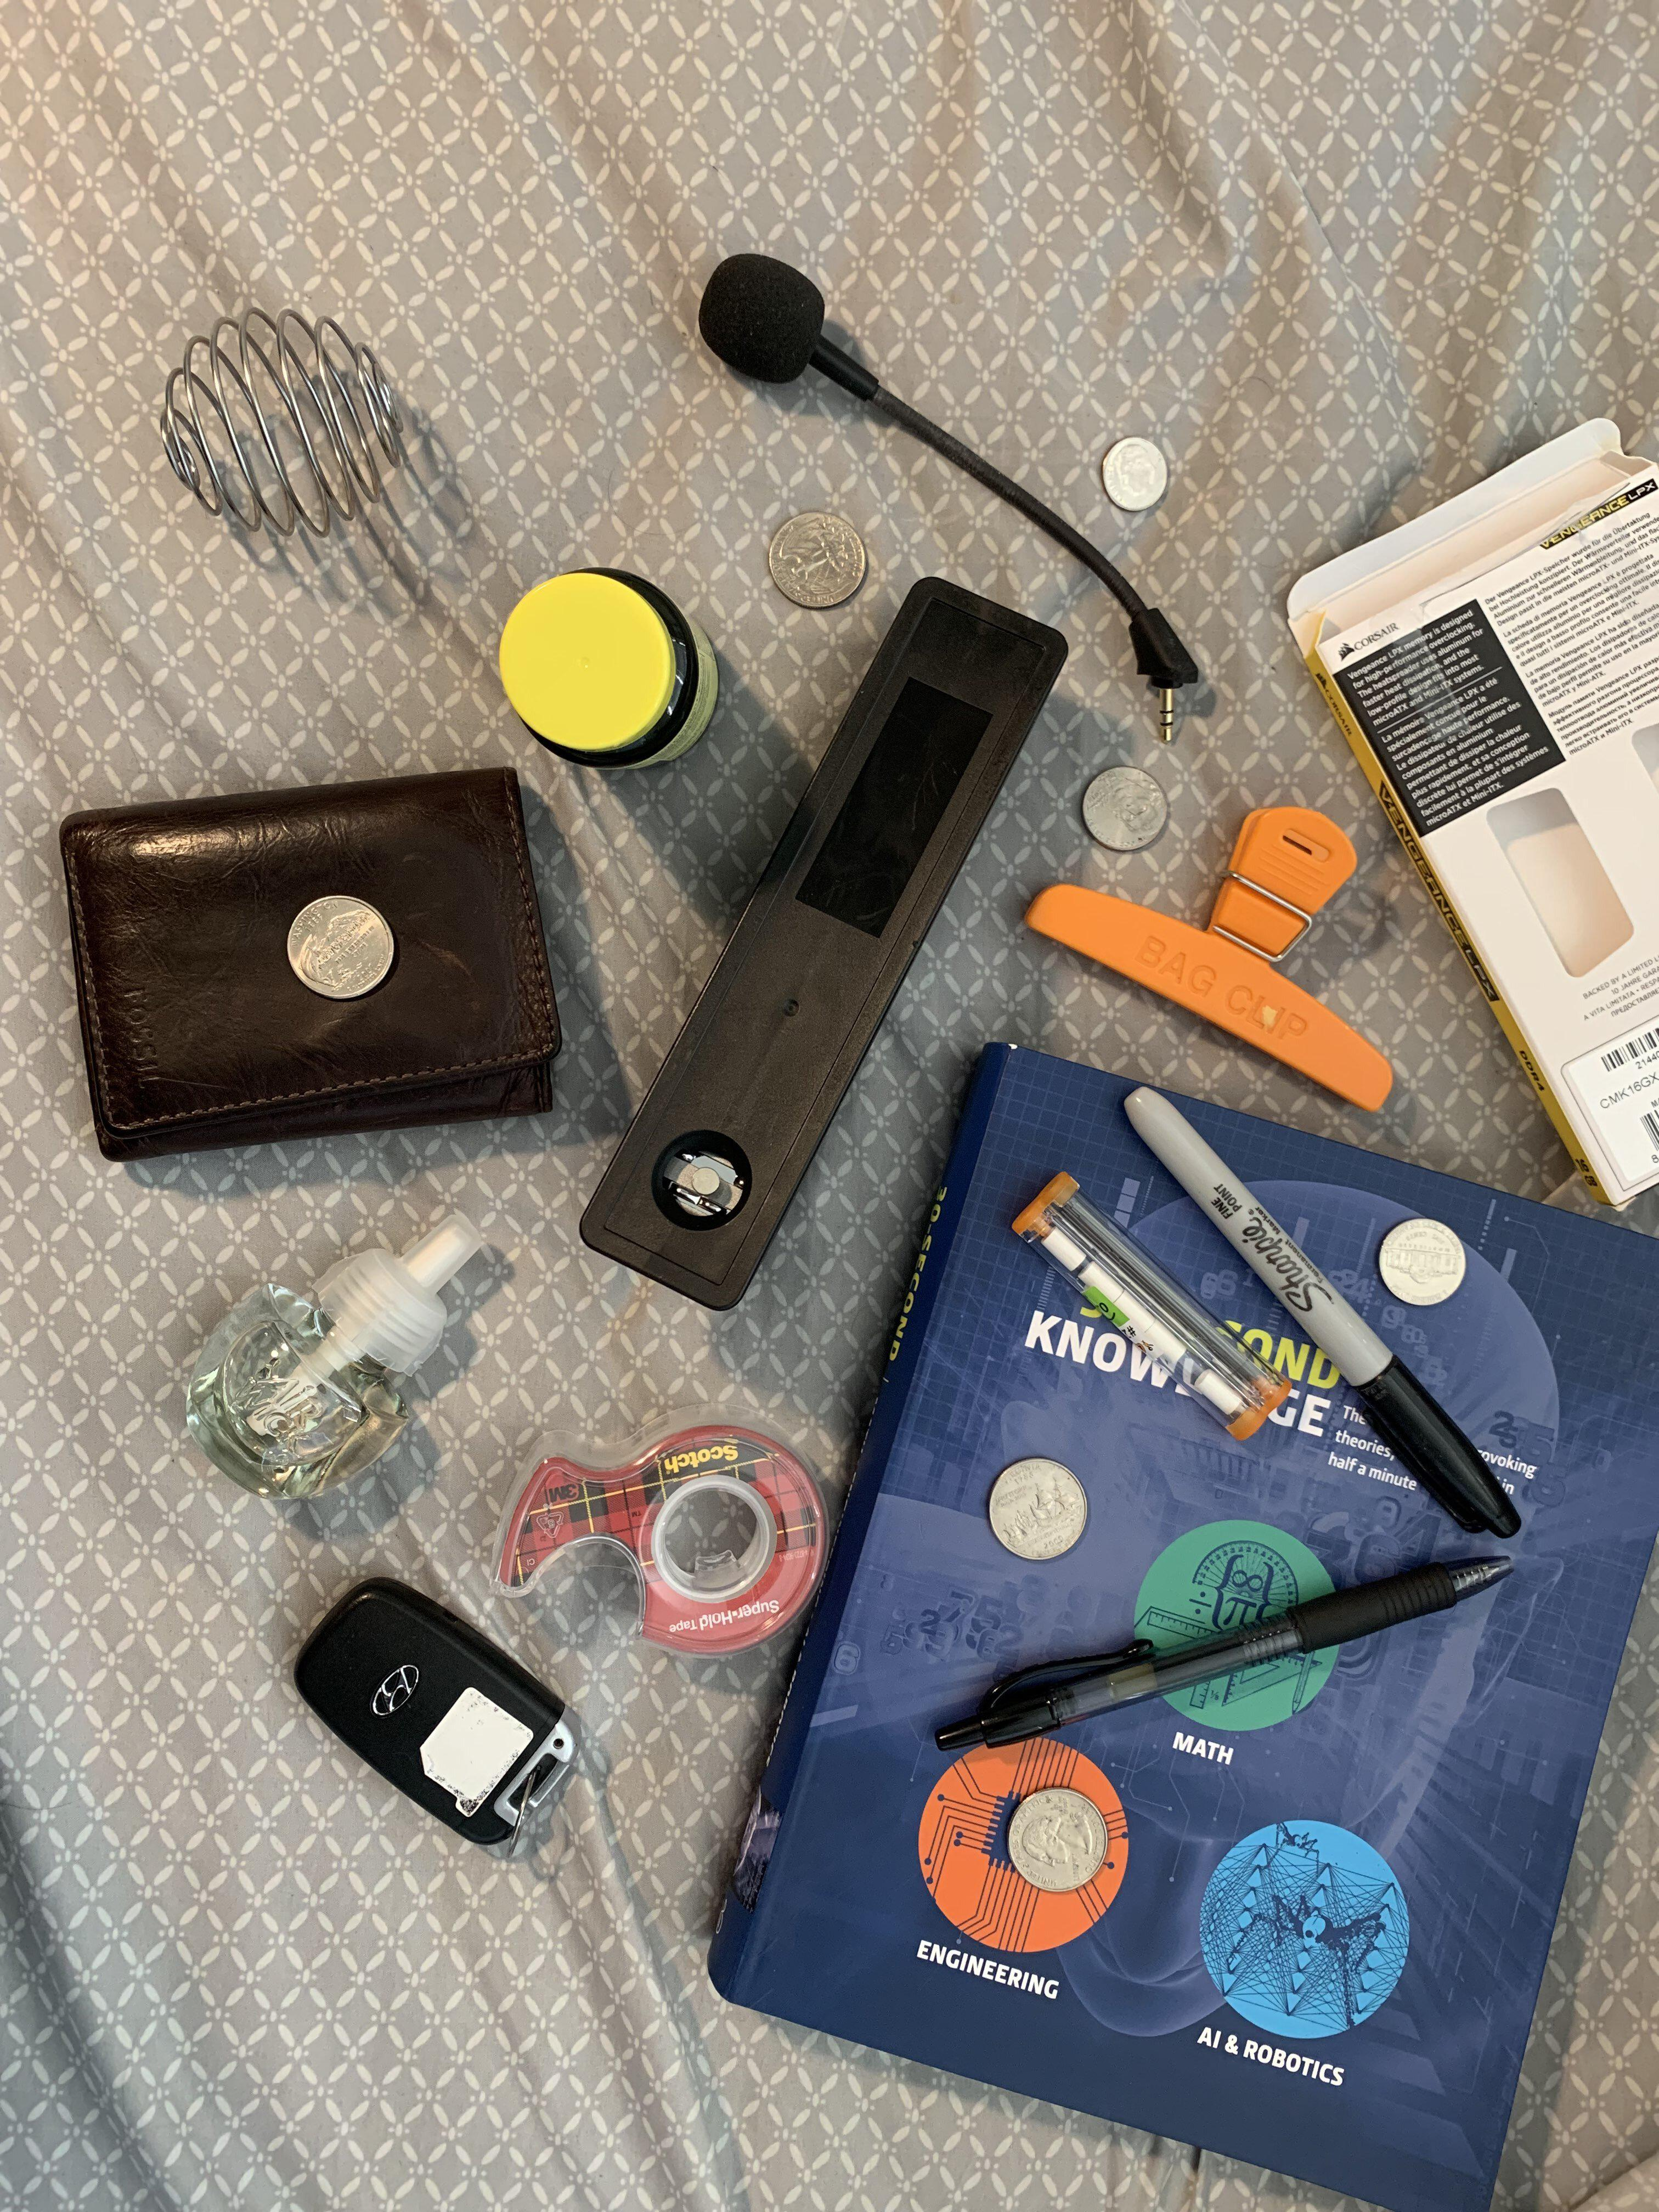Dime: (1066, 425, 1204, 535)
Nickel: (1354, 1202, 1486, 1320), (1066, 749, 1192, 864)
Quarter: (755, 493, 899, 631), (969, 1442, 1119, 1573), (261, 880, 410, 1010), (997, 1766, 1122, 1914)
